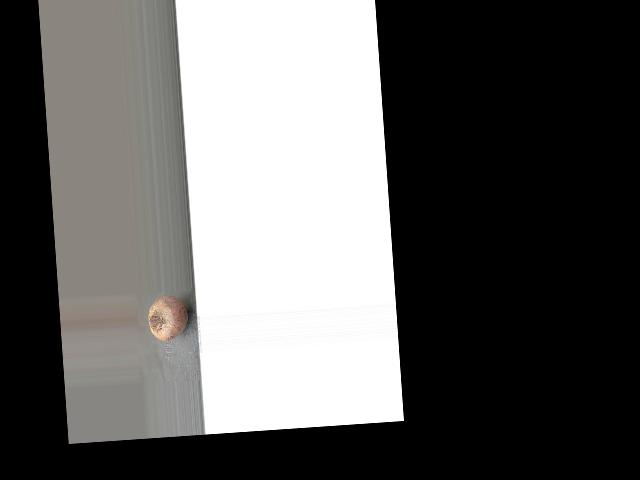beet: (147, 293, 189, 341)
